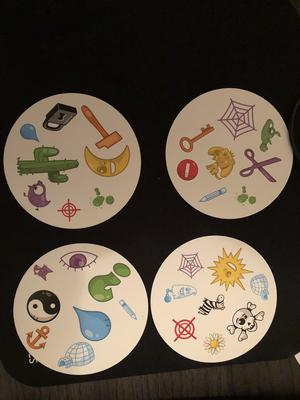ancre: (24, 323, 52, 351)
cactus: (14, 143, 80, 186)
cadenas: (39, 101, 79, 134)
chat: (31, 262, 55, 283)
chien: (204, 145, 237, 181)
cible: (168, 316, 199, 343), (54, 195, 81, 218)
ciseau: (238, 147, 284, 185)
cle: (177, 122, 216, 155)
crayon: (198, 185, 228, 204), (118, 299, 139, 321)
dinosore: (258, 116, 283, 154)
fleur: (201, 330, 227, 356)
goutte: (72, 302, 114, 342), (17, 121, 43, 144)
igloo: (56, 340, 96, 370), (248, 271, 272, 300)
lune: (80, 145, 133, 179)
marteau: (79, 101, 123, 151)
oeuil: (56, 249, 100, 272)
oiseau: (20, 179, 51, 213)
point_interrogation: (89, 260, 131, 302)
sens_interdit: (174, 158, 200, 184)
soleil: (205, 246, 251, 292)
tache: (90, 184, 117, 209), (233, 183, 259, 208)
tete_mort: (226, 298, 265, 341)
toile: (217, 96, 259, 142), (176, 247, 204, 283), (166, 281, 197, 306)
ying_yang: (24, 286, 62, 323)
zebre: (194, 289, 228, 317)
